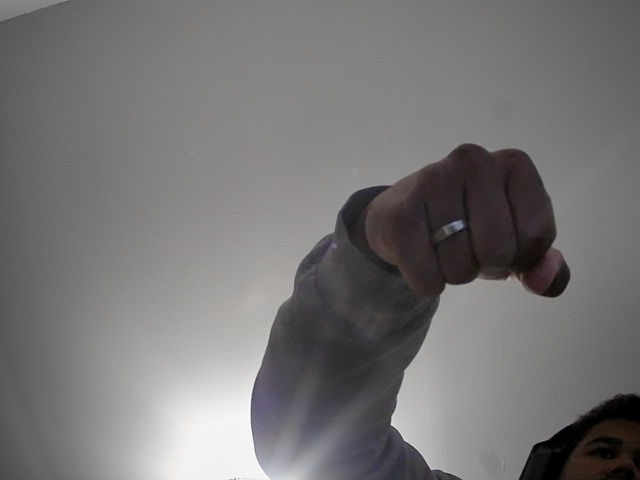Yes: (317, 125, 589, 316)
